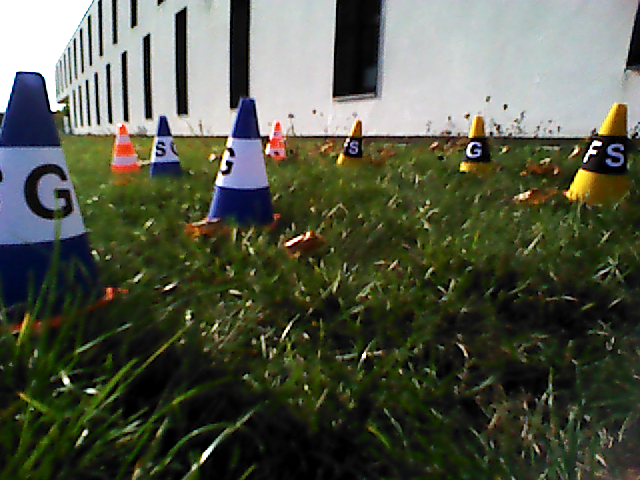bluecone: (1, 71, 99, 319), (208, 97, 274, 224), (148, 116, 183, 177)
orangeconesmall: (109, 123, 140, 174), (267, 122, 286, 160)
yellowcone: (569, 105, 633, 203), (458, 116, 494, 177), (337, 120, 366, 167)
